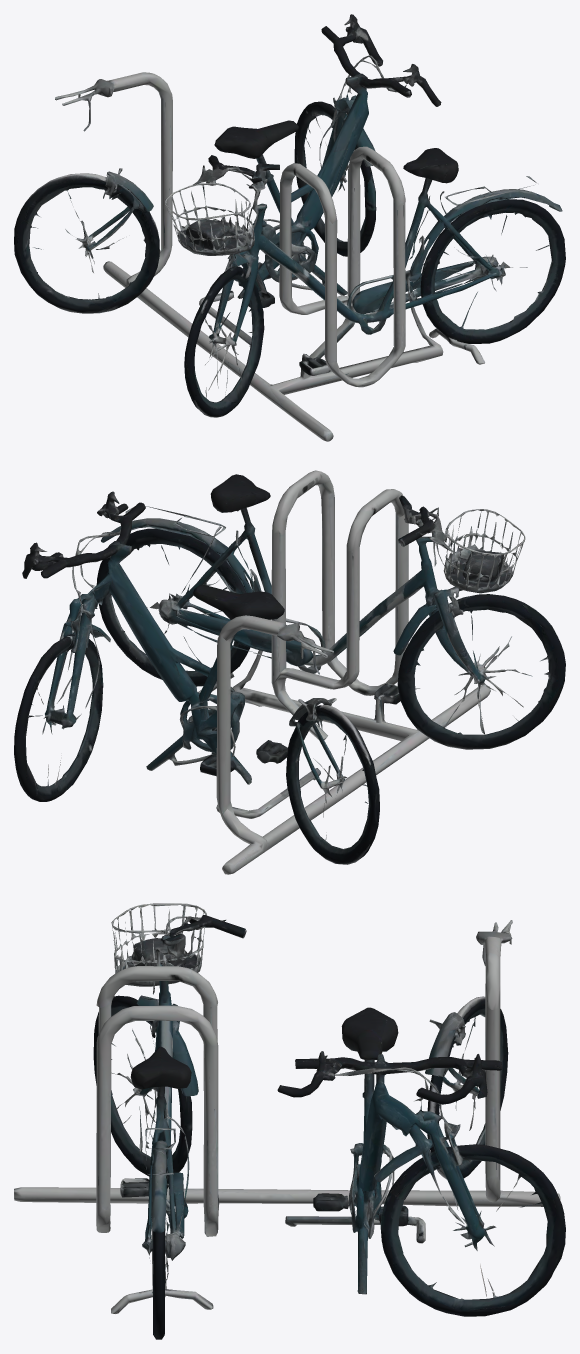
The model's file is bikeRack.glb.
3 views of the same model, one above another, from view 1: azimuth 30°, elevation 25°; view 2: azimuth 150°, elevation 25°; view 3: azimuth 270°, elevation 25° (orthographic). The views are drawn at different scales.
Bounding box in the file's own units: 1.72 × 0.942 × 1.71.
Materials: 1 (1 with a texture image).
